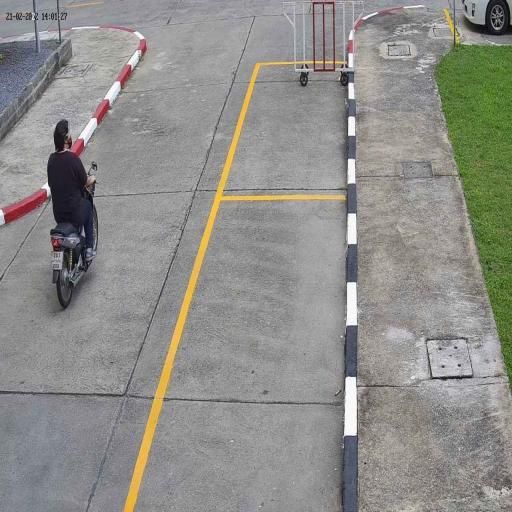motorcycle: (50, 205, 100, 312)
